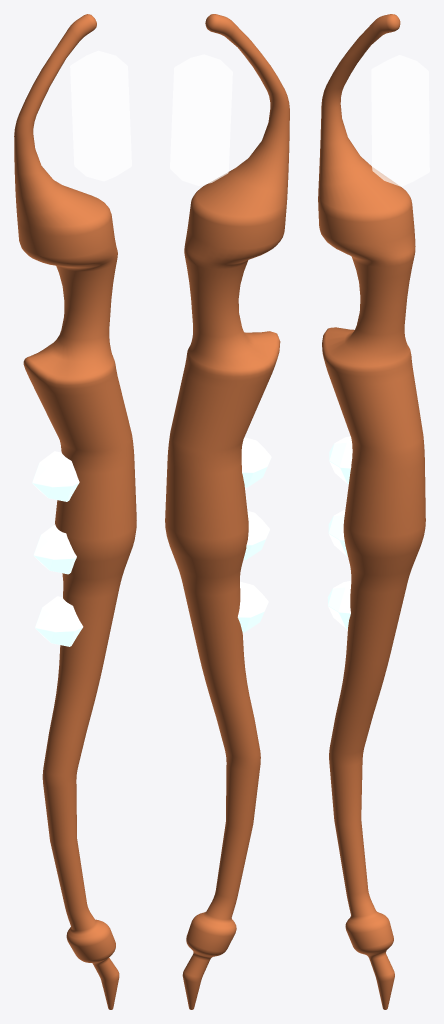
Rendered from Mage Staff fixed.fbx.
3 renders of one model, left to right at view 1: azimuth 30°, elevation 25°; view 2: azimuth 210°, elevation 25°; view 3: azimuth 330°, elevation 25°, orthographic. The views are drawn at different scales.
Visible parts, largest first — view 1: Cylinder; view 2: Cylinder; view 3: Cylinder.
Part boxes in pixels (box(x1,y1,x2,y2)): Cylinder: box(14, 14, 136, 1009); Cylinder: box(165, 14, 289, 1009); Cylinder: box(318, 14, 429, 1009).
Bounding box in the file's own units: 0.1855 × 1.64 × 0.1498.
